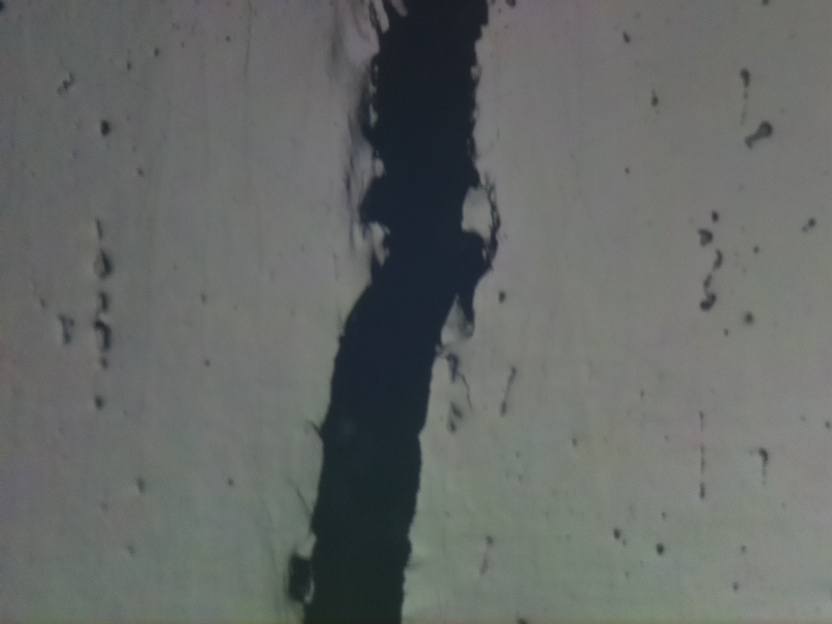crack: (299, 0, 500, 623)
